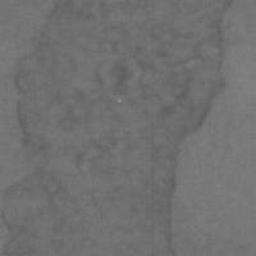Water spot: (0, 0, 233, 256)
